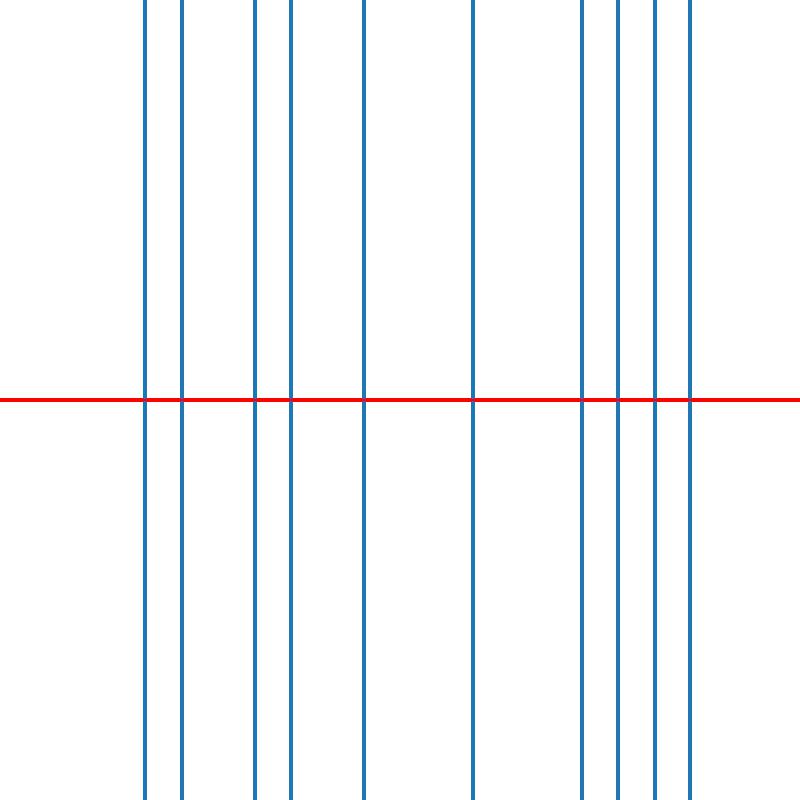root: (250, 396, 258, 404), (650, 396, 658, 404), (141, 396, 149, 404), (578, 396, 585, 404), (287, 396, 294, 404), (687, 396, 694, 404), (360, 396, 367, 404), (469, 396, 476, 404), (178, 396, 185, 404), (614, 396, 621, 404)
